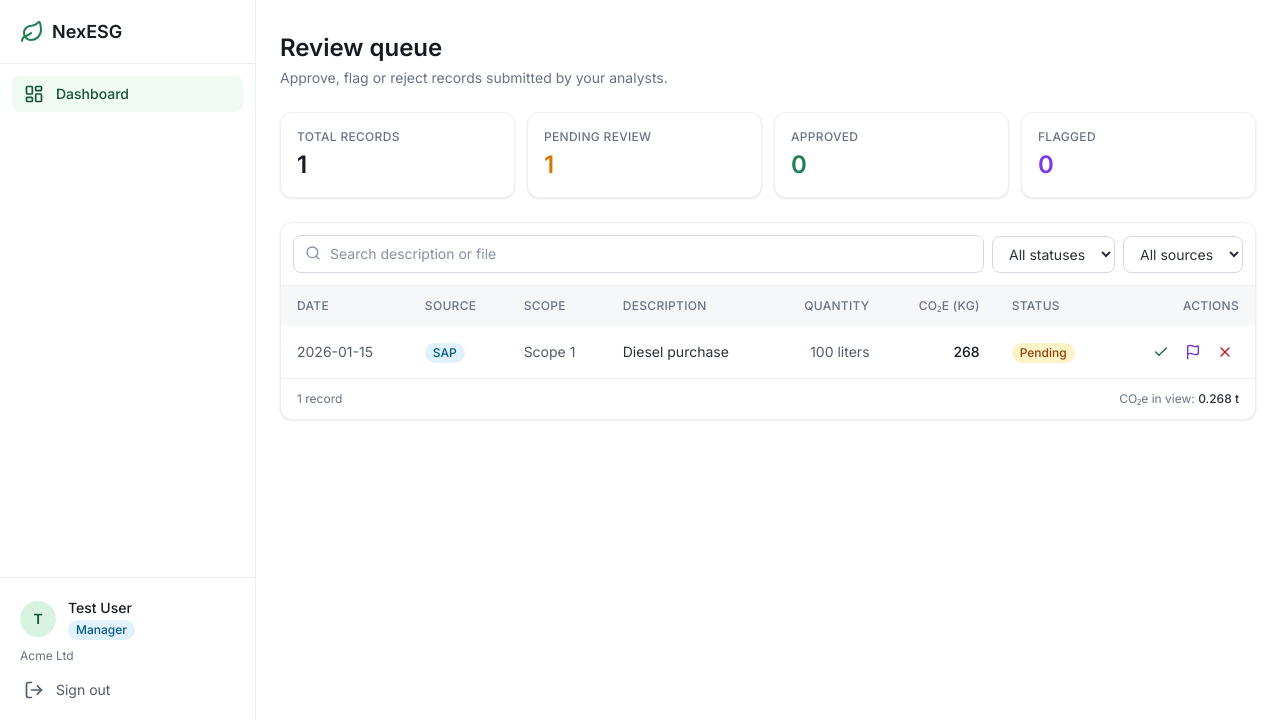
Test case: dashboard by role › server errors during review are shown in the dialog
Click the button named "approve record".
click(1161, 352)  # box [1147,338,1175,366]
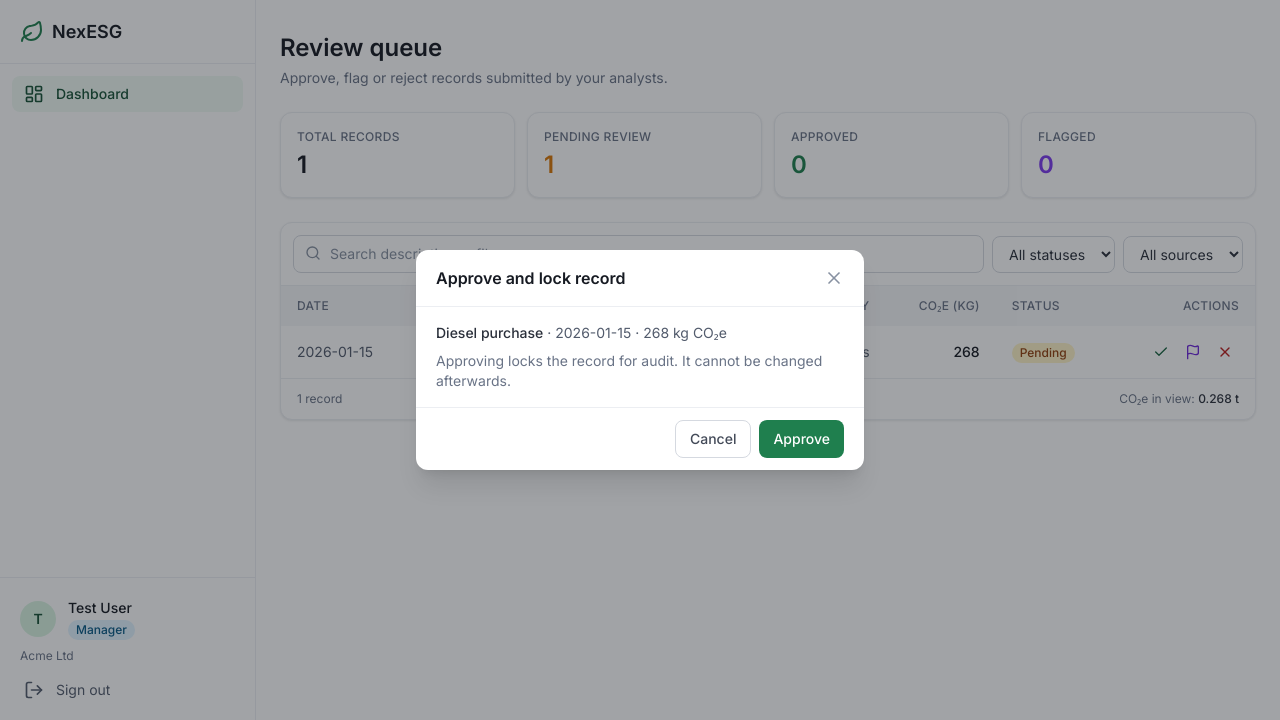
Click the button "Approve".
click(802, 439)  # box [759,420,844,458]
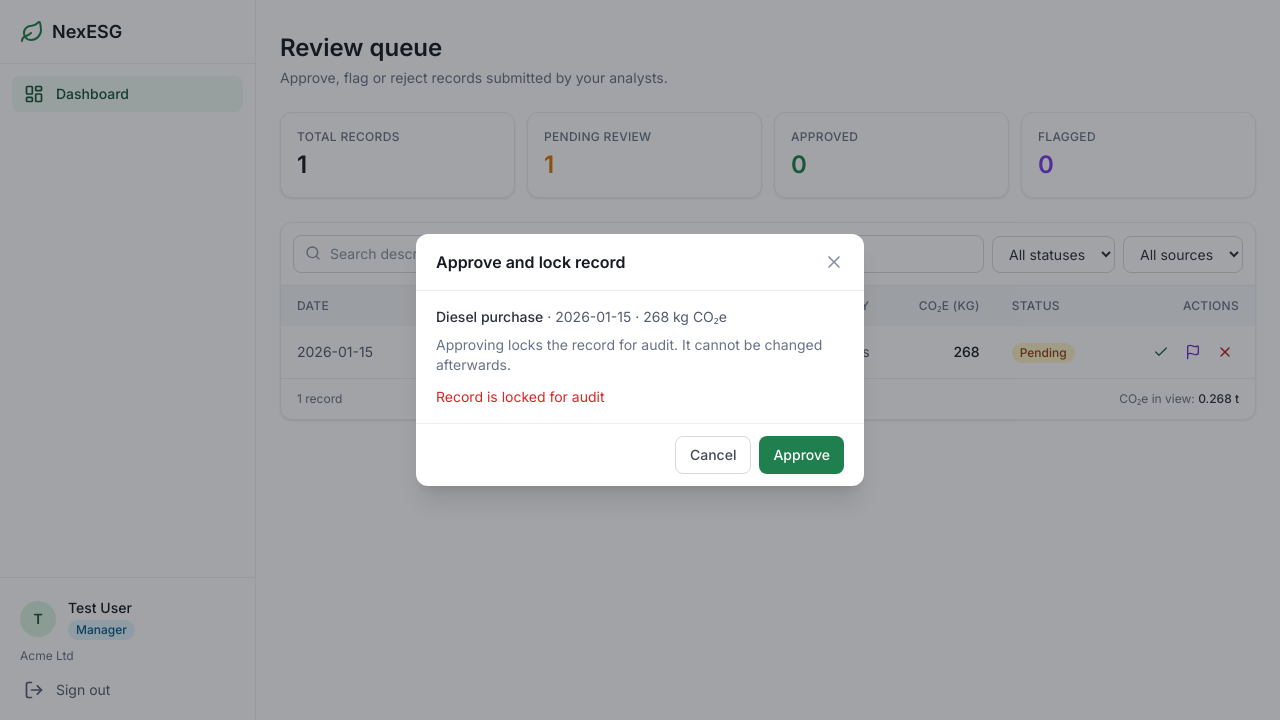
Now the message shows "locked for audit", box [436,388,604,405]
